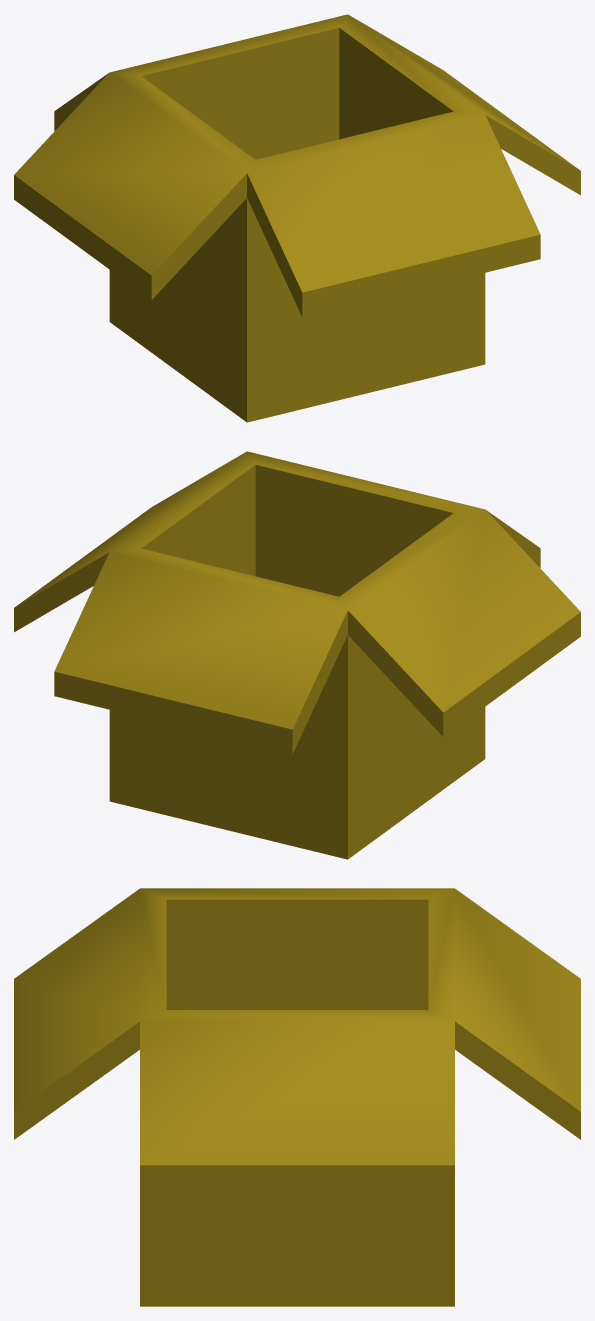
The model's file is PaperPrefab.fbx.
3 views of the same model, one above another, from view 1: azimuth 30°, elevation 25°; view 2: azimuth 150°, elevation 25°; view 3: azimuth 270°, elevation 25° (orthographic). The views are drawn at different scales.
Parts seen in each view (by area): view 1: pCube1; view 2: pCube1; view 3: pCube1.
Boxes of the visible parts, x1,y1,x2,y2 form: pCube1: (14, 14, 580, 422); pCube1: (14, 451, 580, 859); pCube1: (14, 888, 580, 1306).
Size of the model in its own units: 9.01 by 5 by 9.01.
